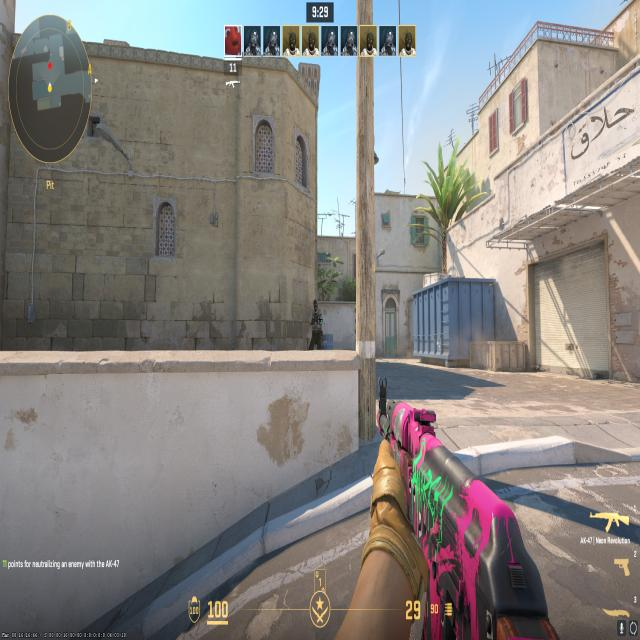t: (310, 296, 322, 350)
